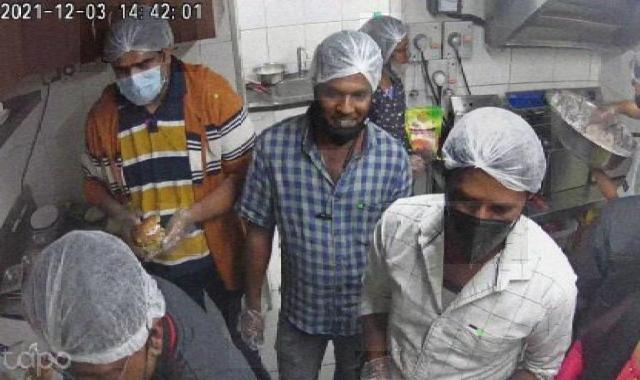apron: (229, 298, 280, 368), (157, 204, 202, 256), (587, 101, 631, 136), (109, 200, 154, 234), (355, 351, 404, 380)
gloves: (20, 226, 176, 368), (432, 98, 551, 201), (80, 6, 197, 72), (298, 30, 378, 100), (360, 14, 405, 52)
mask: (445, 206, 529, 264), (108, 64, 176, 102)
no_hairnet: (307, 101, 379, 150), (386, 39, 419, 77)
